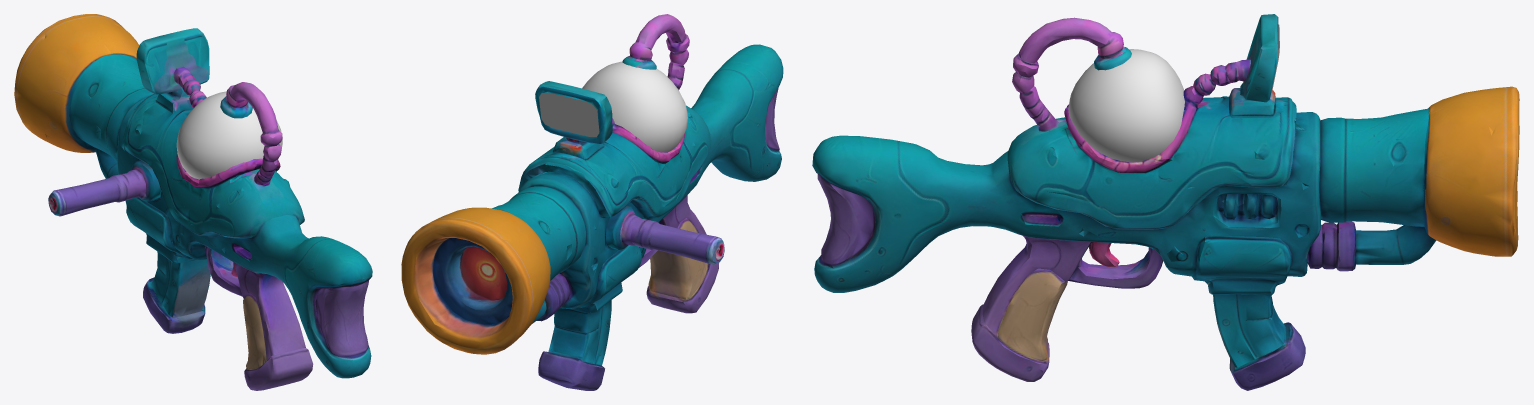
Rendered from PotionGun.fbx.
3 renders of one model, left to right at view 1: azimuth 30°, elevation 25°; view 2: azimuth 150°, elevation 25°; view 3: azimuth 270°, elevation 25°, orthographic. The views are drawn at different scales.
Visible parts, largest first — view 1: Potion; view 2: Potion; view 3: Potion.
Part boxes in pixels (x1,y1,x2,y2): Potion: (14, 14, 372, 390); Potion: (401, 14, 783, 390); Potion: (812, 14, 1519, 390).
Bounding box in the file's own units: 20.1 × 29.84 × 52.27.
3 materials, 1 textured.
